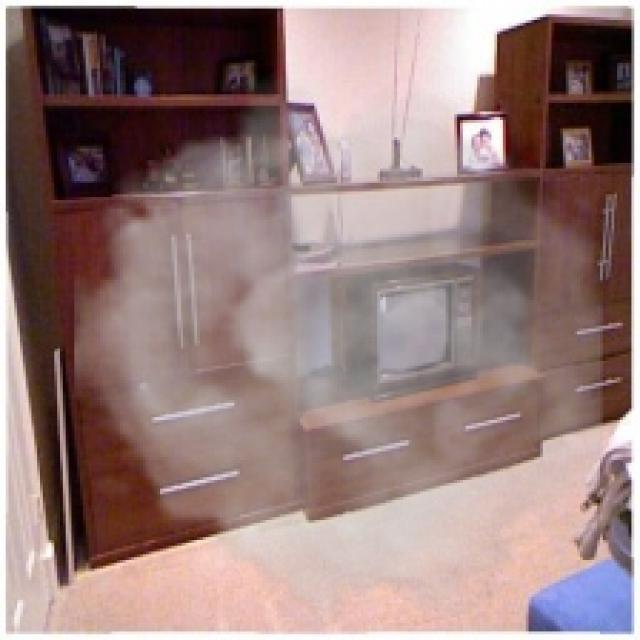Smoke: (74, 74, 603, 637)
